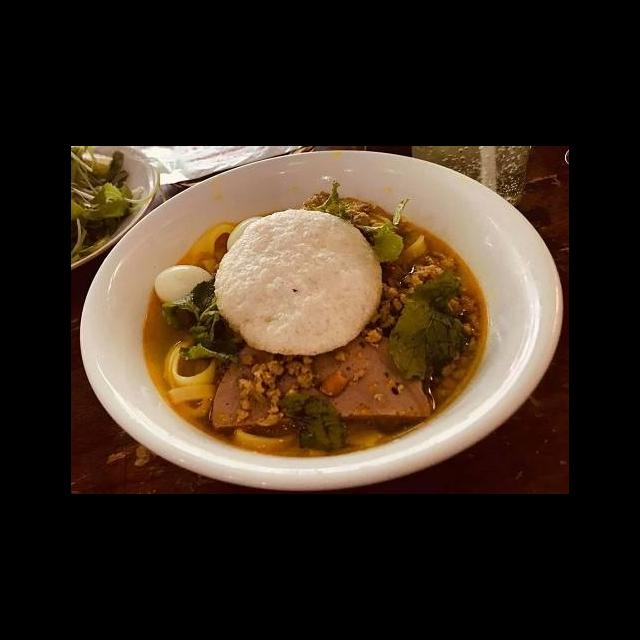mi: (160, 335, 221, 424), (186, 221, 238, 277)
thit bam: (358, 247, 484, 409), (234, 347, 319, 432)
trung: (153, 263, 216, 309)
